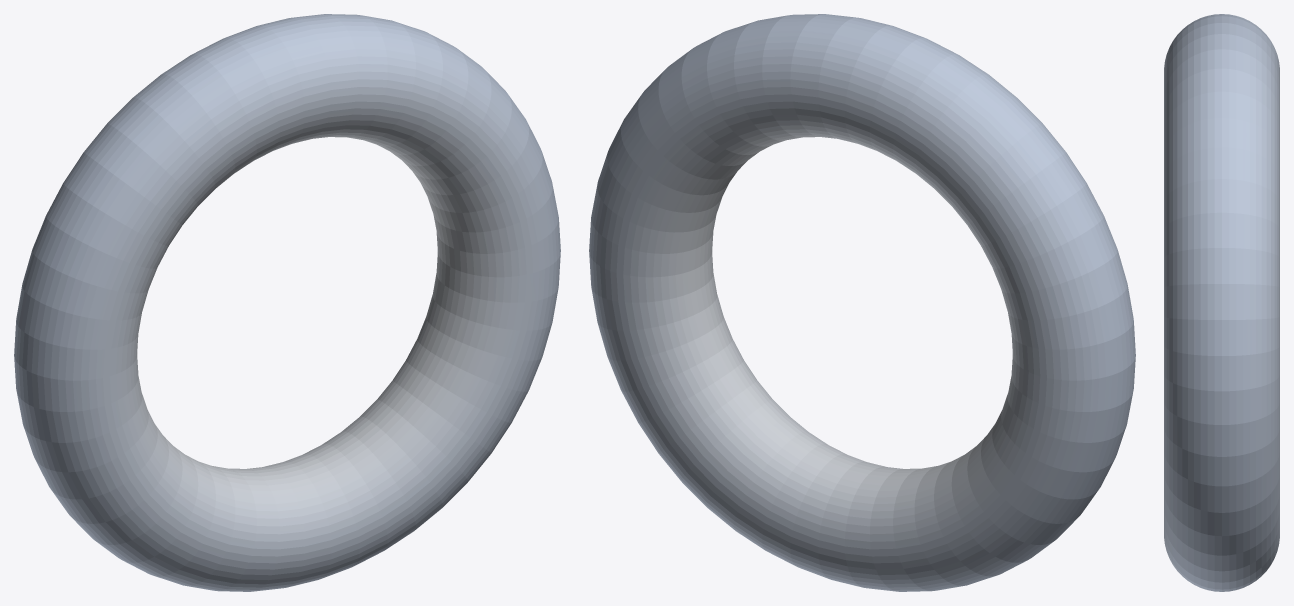
3 views of the same model, side by side, from view 1: azimuth 30°, elevation 25°; view 2: azimuth 150°, elevation 25°; view 3: azimuth 270°, elevation 25° (orthographic). The views are drawn at different scales.
Parts seen in each view (by area): view 1: world; view 2: world; view 3: world.
Boxes of the visible parts, x1,y1,x2,y2 form: world: [14, 14, 560, 591]; world: [589, 14, 1135, 591]; world: [1164, 14, 1279, 591].
Bounding box in the file's own units: 25.87 × 25.82 × 5.19.
